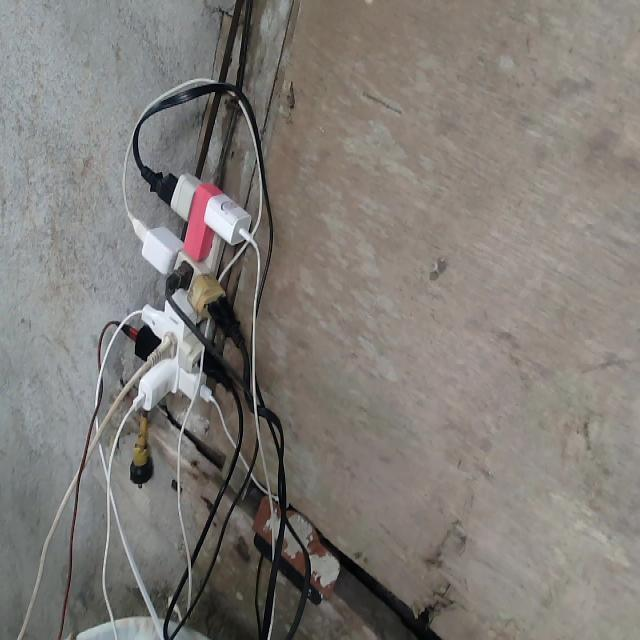-: (120, 166, 253, 414)
